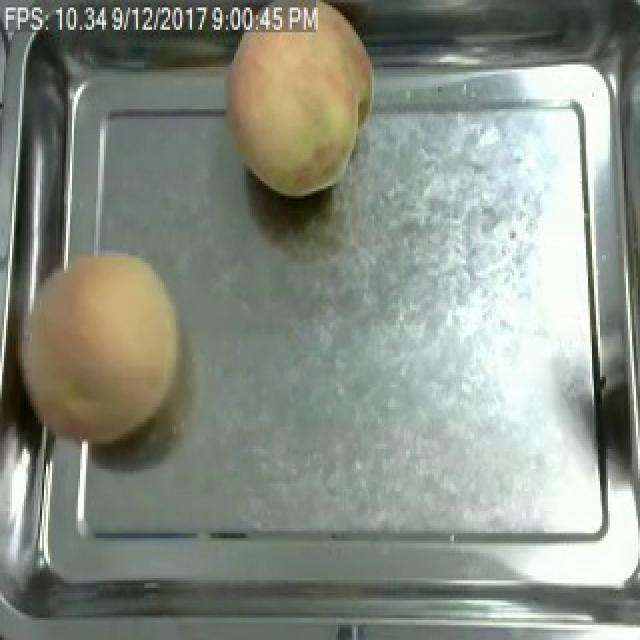Fruit: (6, 241, 194, 454), (216, 2, 378, 206)
